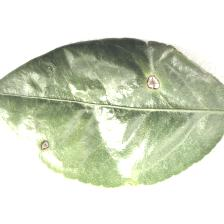canker: (22, 75, 176, 173)
